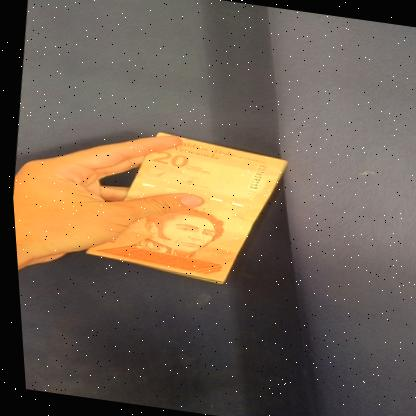twenty-front-vef: (72, 122, 292, 292)
